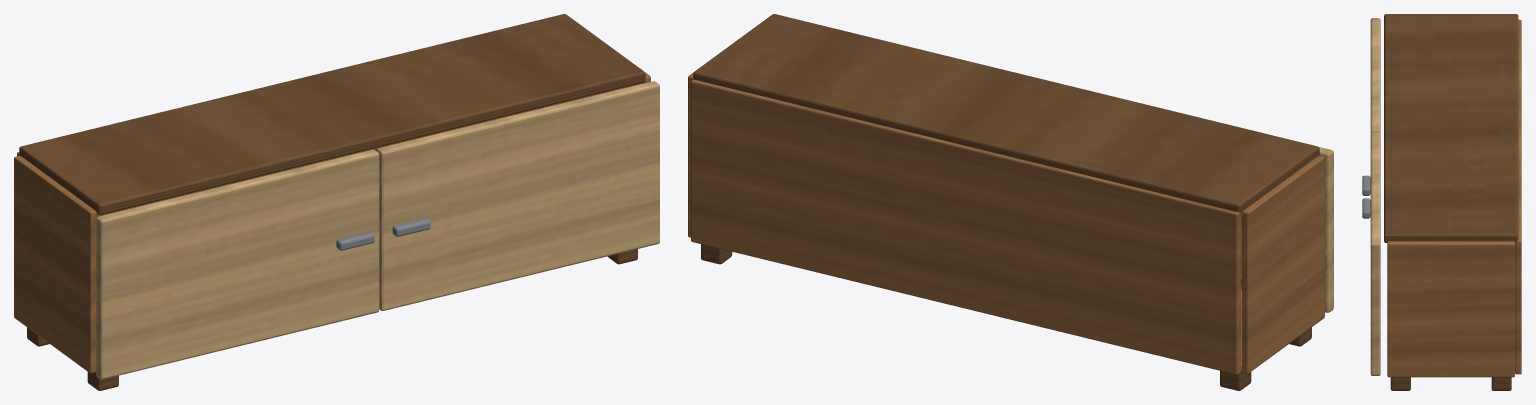
Rendered from tv_cabinet.glb.
3 views of the same model, side by side, from view 1: azimuth 30°, elevation 25°; view 2: azimuth 150°, elevation 25°; view 3: azimuth 270°, elevation 25° (orthographic). The views are drawn at different scales.
Parts seen in each view (by area): view 1: toptrim, part_doorL__tv_cabinet, part_doorR__tv_cabinet, tv_body_left, tv_body_top; view 2: tv_body_back, toptrim, tv_body_left, part_doorL__tv_cabinet; view 3: toptrim, tv_body_right, part_doorR__tv_cabinet, tv_body_back, part_doorL__tv_cabinet, tvleg1-1, tvleg11.
Part boxes in pixels (x1,y1,x2,y2): toptrim: (19, 14, 645, 214); part_doorL__tv_cabinet: (96, 149, 379, 379); part_doorR__tv_cabinet: (376, 81, 659, 310); tv_body_left: (14, 156, 96, 373); tv_body_top: (96, 82, 643, 216); tv_body_back: (691, 79, 1240, 374); toptrim: (693, 14, 1319, 213); tv_body_left: (1242, 156, 1324, 373); part_doorL__tv_cabinet: (1241, 147, 1333, 312); toptrim: (1384, 14, 1518, 242); tv_body_right: (1387, 241, 1514, 377); part_doorR__tv_cabinet: (1362, 131, 1380, 375); tv_body_back: (1515, 19, 1521, 374); part_doorL__tv_cabinet: (1362, 18, 1380, 195); tvleg1-1: (1491, 377, 1511, 390); tvleg11: (1390, 377, 1410, 390).
Size of the model in its own units: 1.6 by 0.52 by 0.475.
4 materials, 3 textured.
